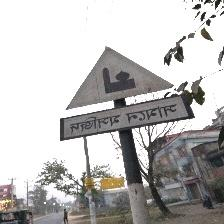Mosque in front: (63, 45, 191, 143)
